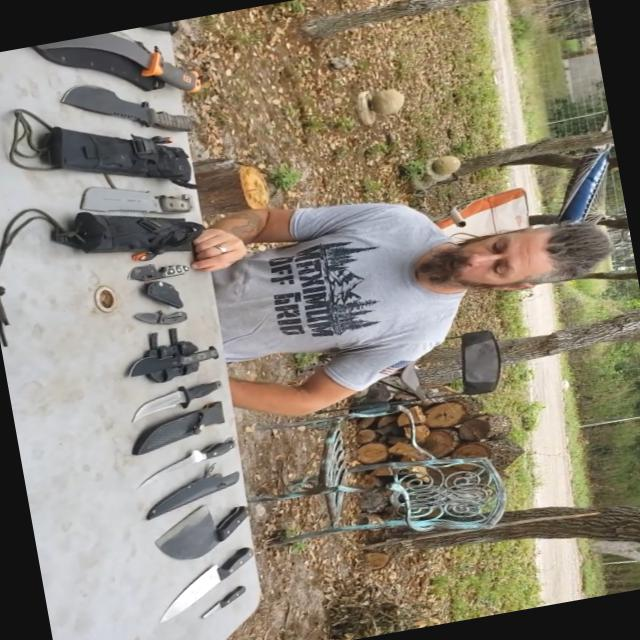knife: (14, 17, 213, 132), (52, 53, 234, 161), (61, 154, 236, 250), (119, 549, 277, 639), (142, 492, 282, 570), (122, 426, 254, 502), (94, 239, 214, 306), (102, 336, 238, 394), (120, 362, 240, 425), (113, 293, 210, 346), (183, 579, 261, 621)
